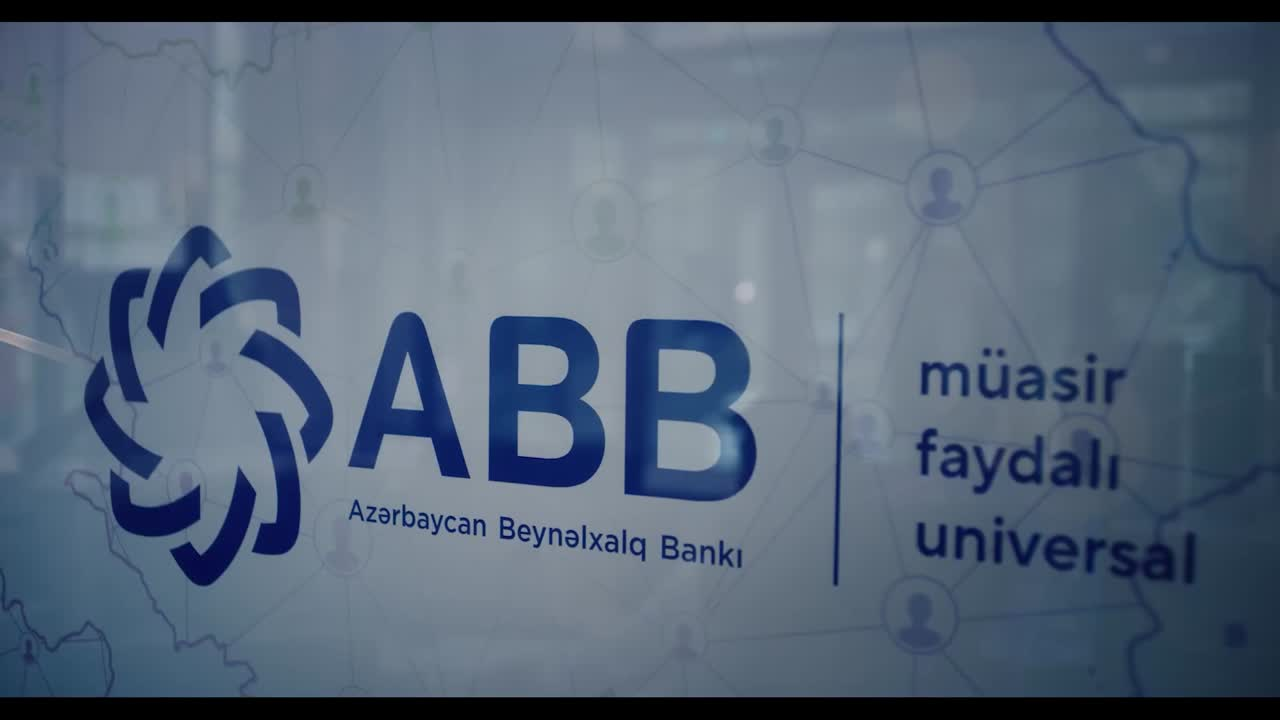ABB: (80, 217, 336, 590)
